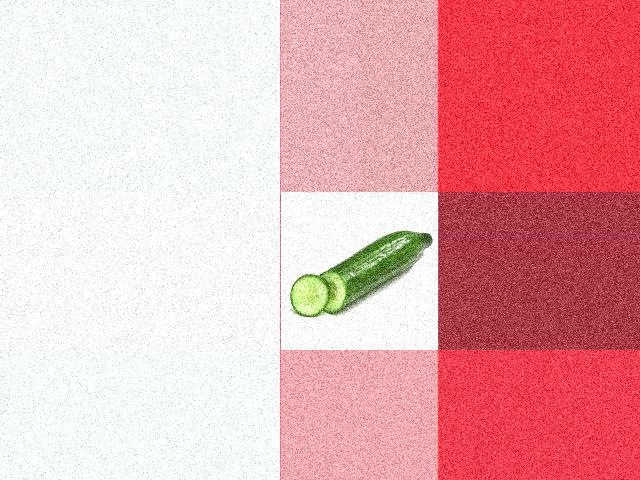cucumber: (317, 231, 432, 314)
